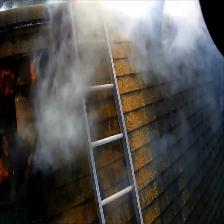smoke: (39, 8, 84, 159), (90, 9, 203, 59)
